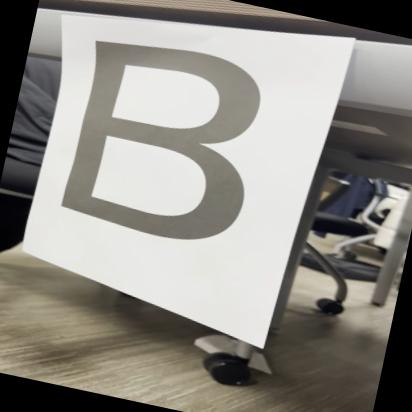seat: (38, 18, 328, 278)
